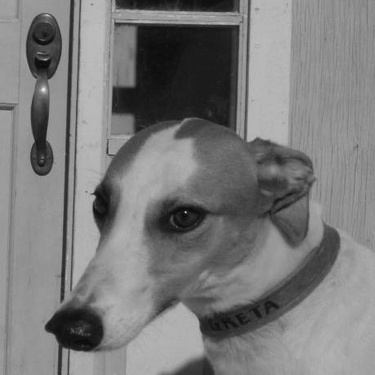dog: (38, 106, 372, 373)
